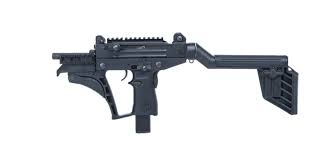gun: (50, 30, 300, 135)
